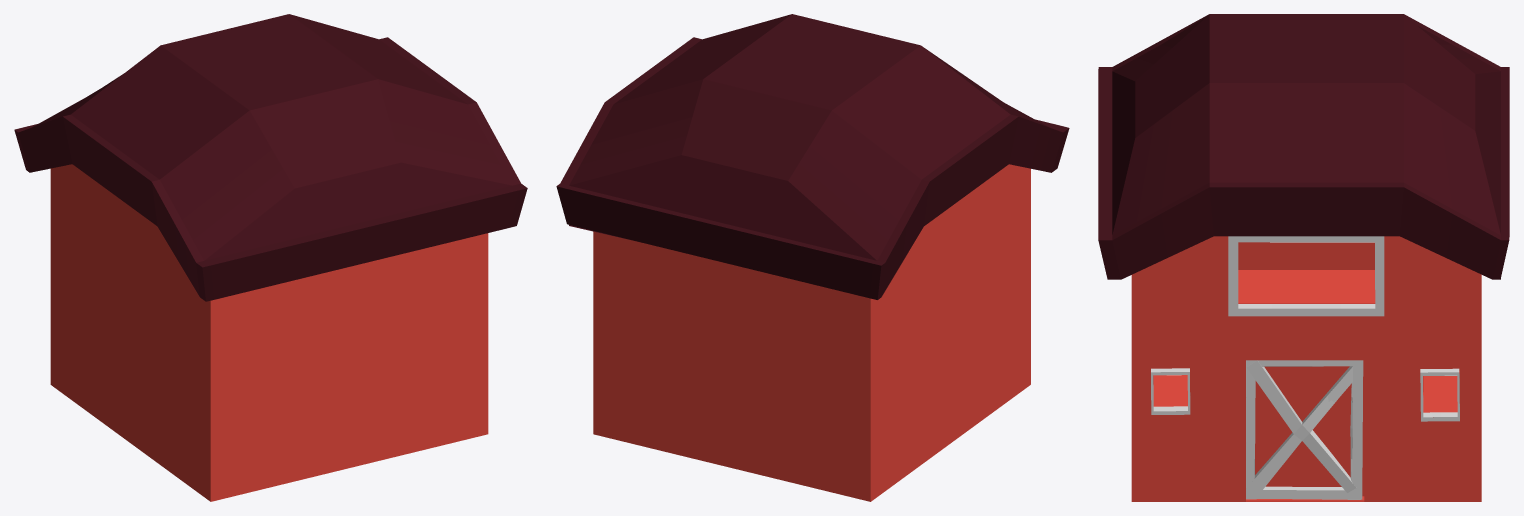
The model's file is FarmHouse.fbx.
The picture shows the model from 3 angles, left to right: view 1: azimuth 30°, elevation 25°; view 2: azimuth 150°, elevation 25°; view 3: azimuth 270°, elevation 25°; orthographic projection. The views are drawn at different scales.
Parts seen in each view (by area): view 1: Base.001, Top Roof, Roof_Ridge; view 2: Base.001, Top Roof, Roof_Ridge; view 3: Top Roof, Base.001, Roof_Ridge, Base, white window.003, white window, white window.002, white window.001.
Part boxes in pixels (x1,y1,x2,y2): Base.001: (50, 164, 488, 501); Top Roof: (32, 14, 512, 260); Roof_Ridge: (14, 37, 527, 301); Base.001: (593, 164, 1030, 501); Top Roof: (569, 14, 1048, 260); Roof_Ridge: (556, 37, 1069, 299); Top Roof: (1112, 14, 1500, 235); Base.001: (1131, 236, 1481, 501); Roof_Ridge: (1098, 14, 1509, 279); Base: (1238, 270, 1375, 499); white window.003: (1246, 360, 1363, 499); white window: (1228, 236, 1384, 316); white window.002: (1420, 368, 1459, 421); white window.001: (1151, 368, 1190, 414).
Bounding box in the file's own units: 1430 × 1460 × 1436.
